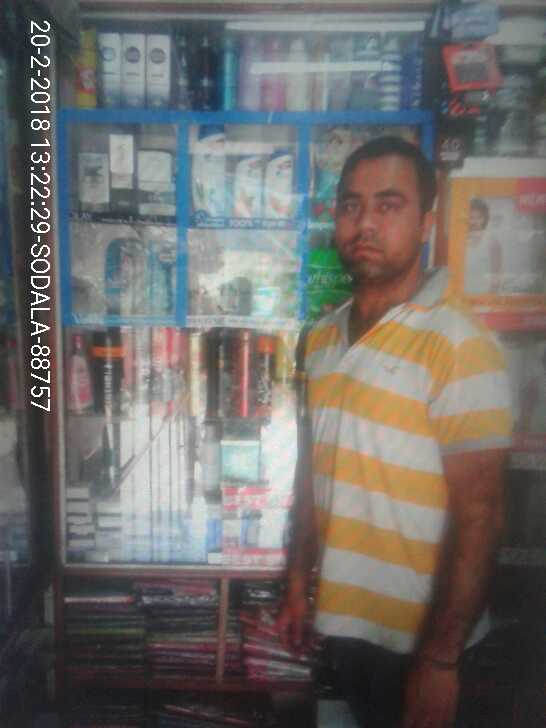venus: (107, 237, 148, 309), (148, 240, 178, 309)
